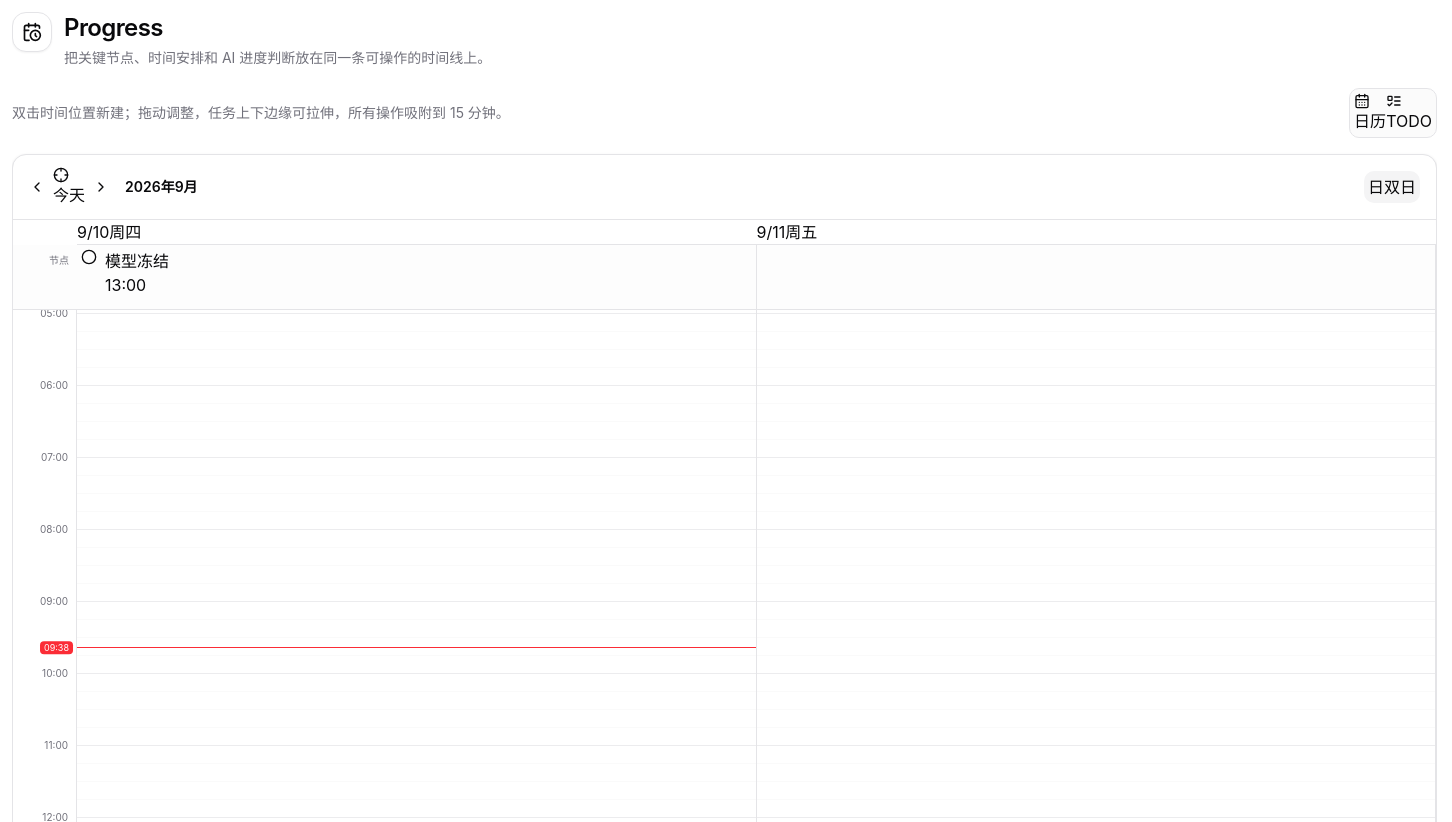
Test: Progress human workbench › switches to the single TODO stream and exposes period-depth headings
The image size is (1452, 822).
(page scrolled)
Click the button "TODO" at (1409, 113), box [1386,93,1432,133]
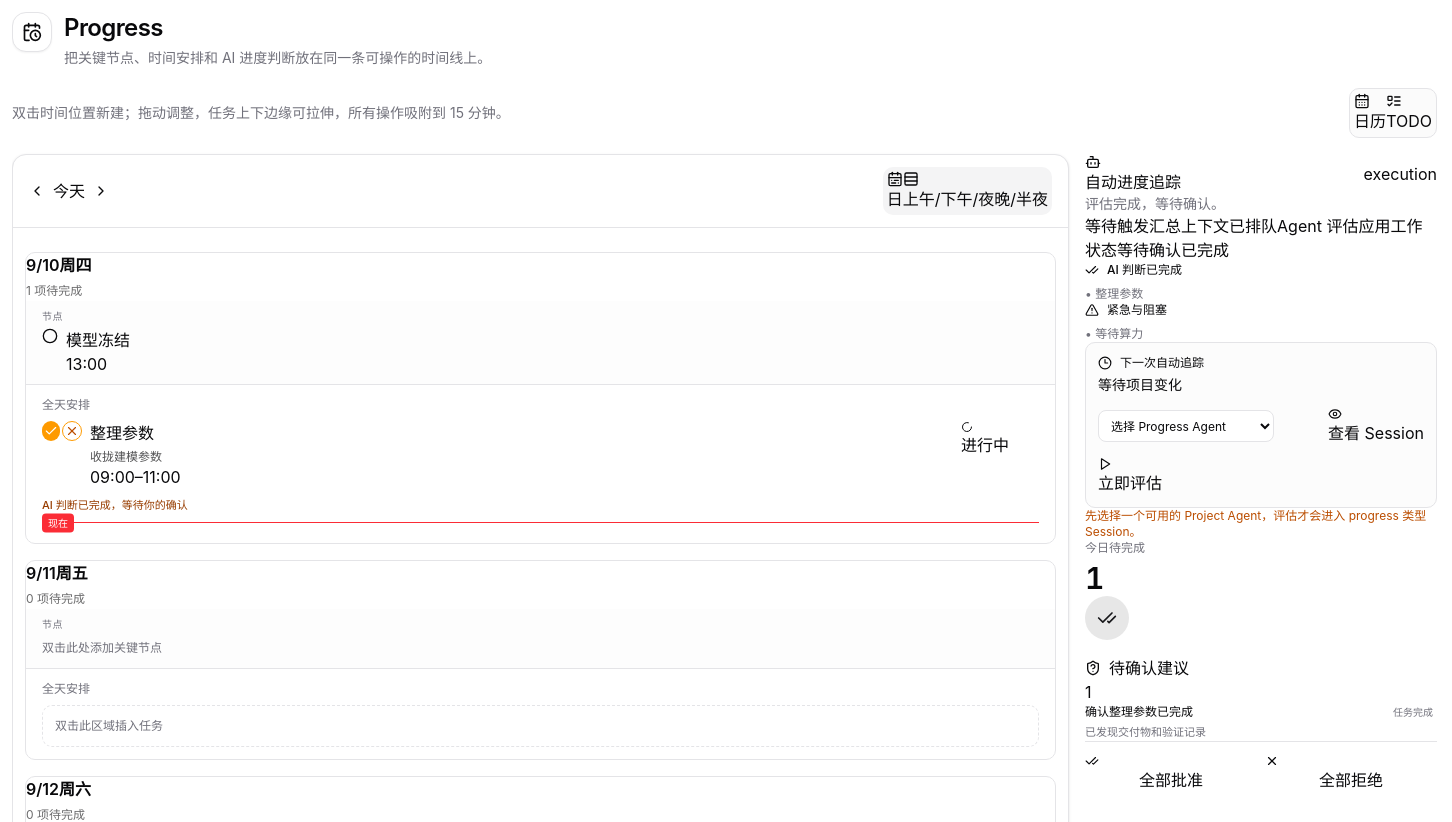
Click the button "上午/下午/夜晚/半夜" at (975, 191), box [903,171,1048,211]
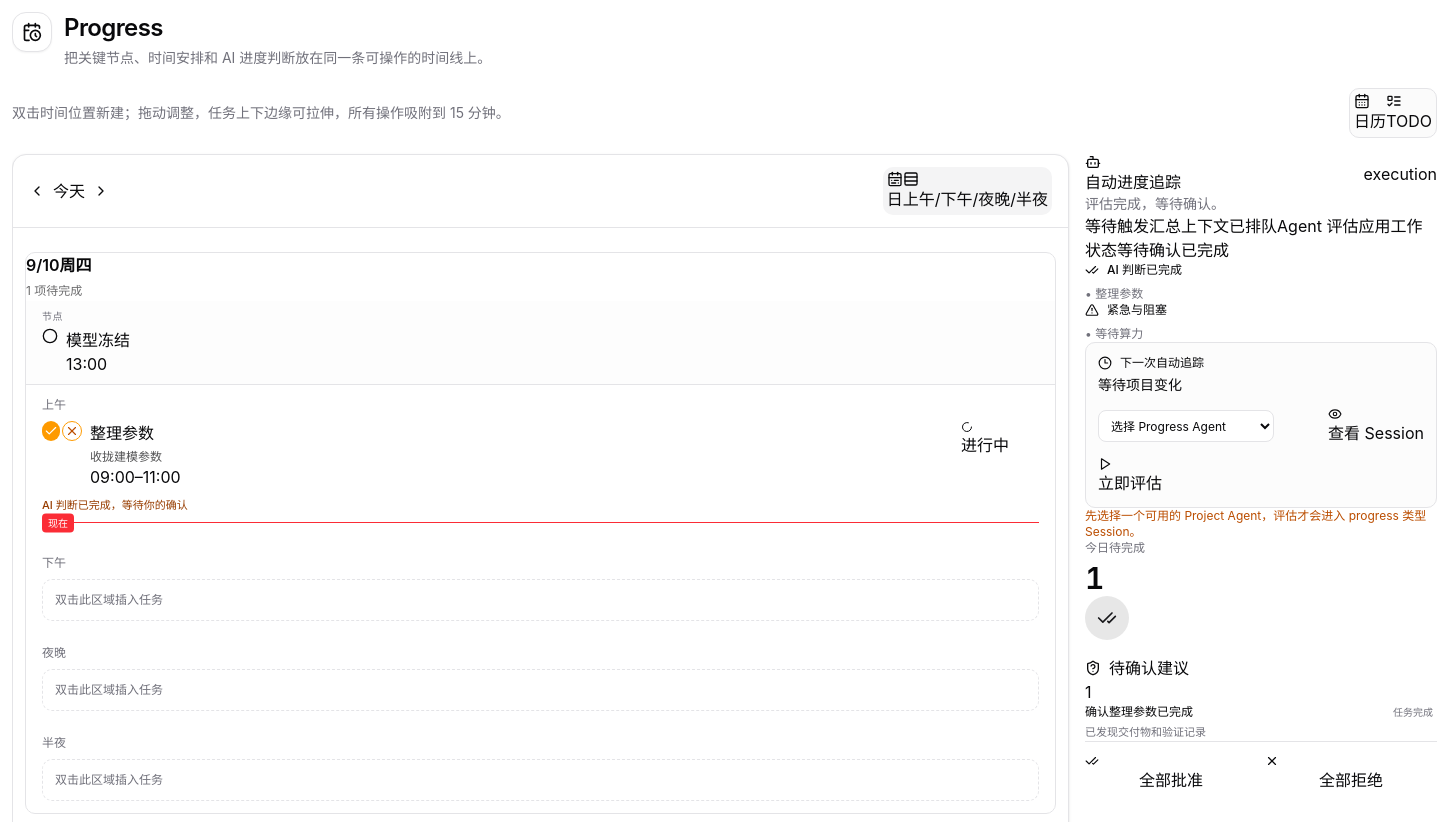
Now the heading "上午" is shown, box [42,397,66,412]
Now the heading "半夜" is shown, box [42,734,66,750]
